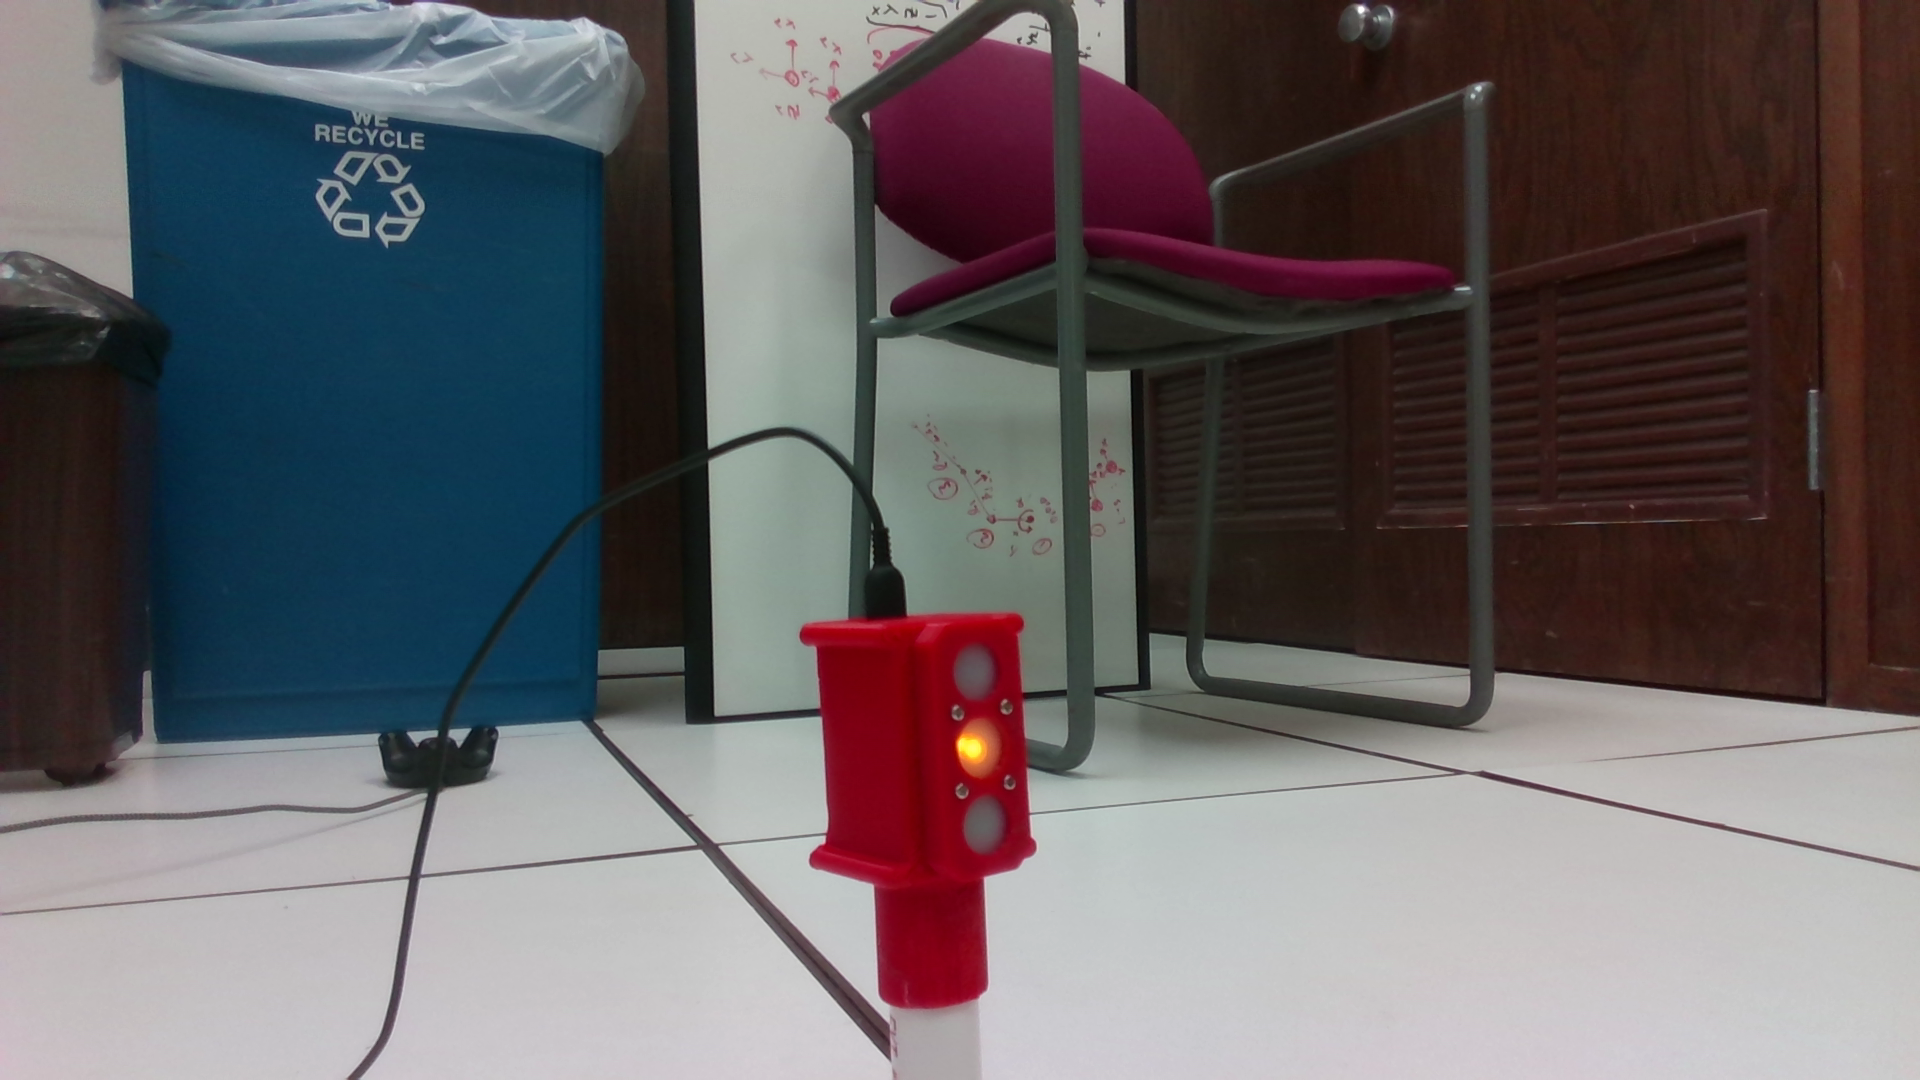stoplight: (787, 611, 1039, 1004)
